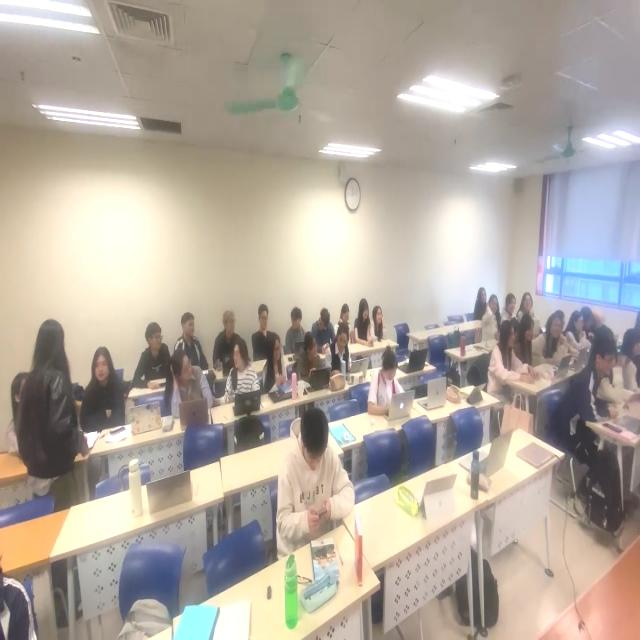raise_head: (88, 343, 128, 448), (139, 329, 169, 396), (174, 312, 202, 367), (534, 316, 563, 367), (480, 294, 504, 348), (369, 300, 388, 345), (500, 292, 520, 332), (517, 288, 535, 324)
stand: (20, 318, 86, 511)
using_computer: (368, 353, 416, 431)
using_phone: (276, 413, 345, 555), (305, 486, 340, 540)
